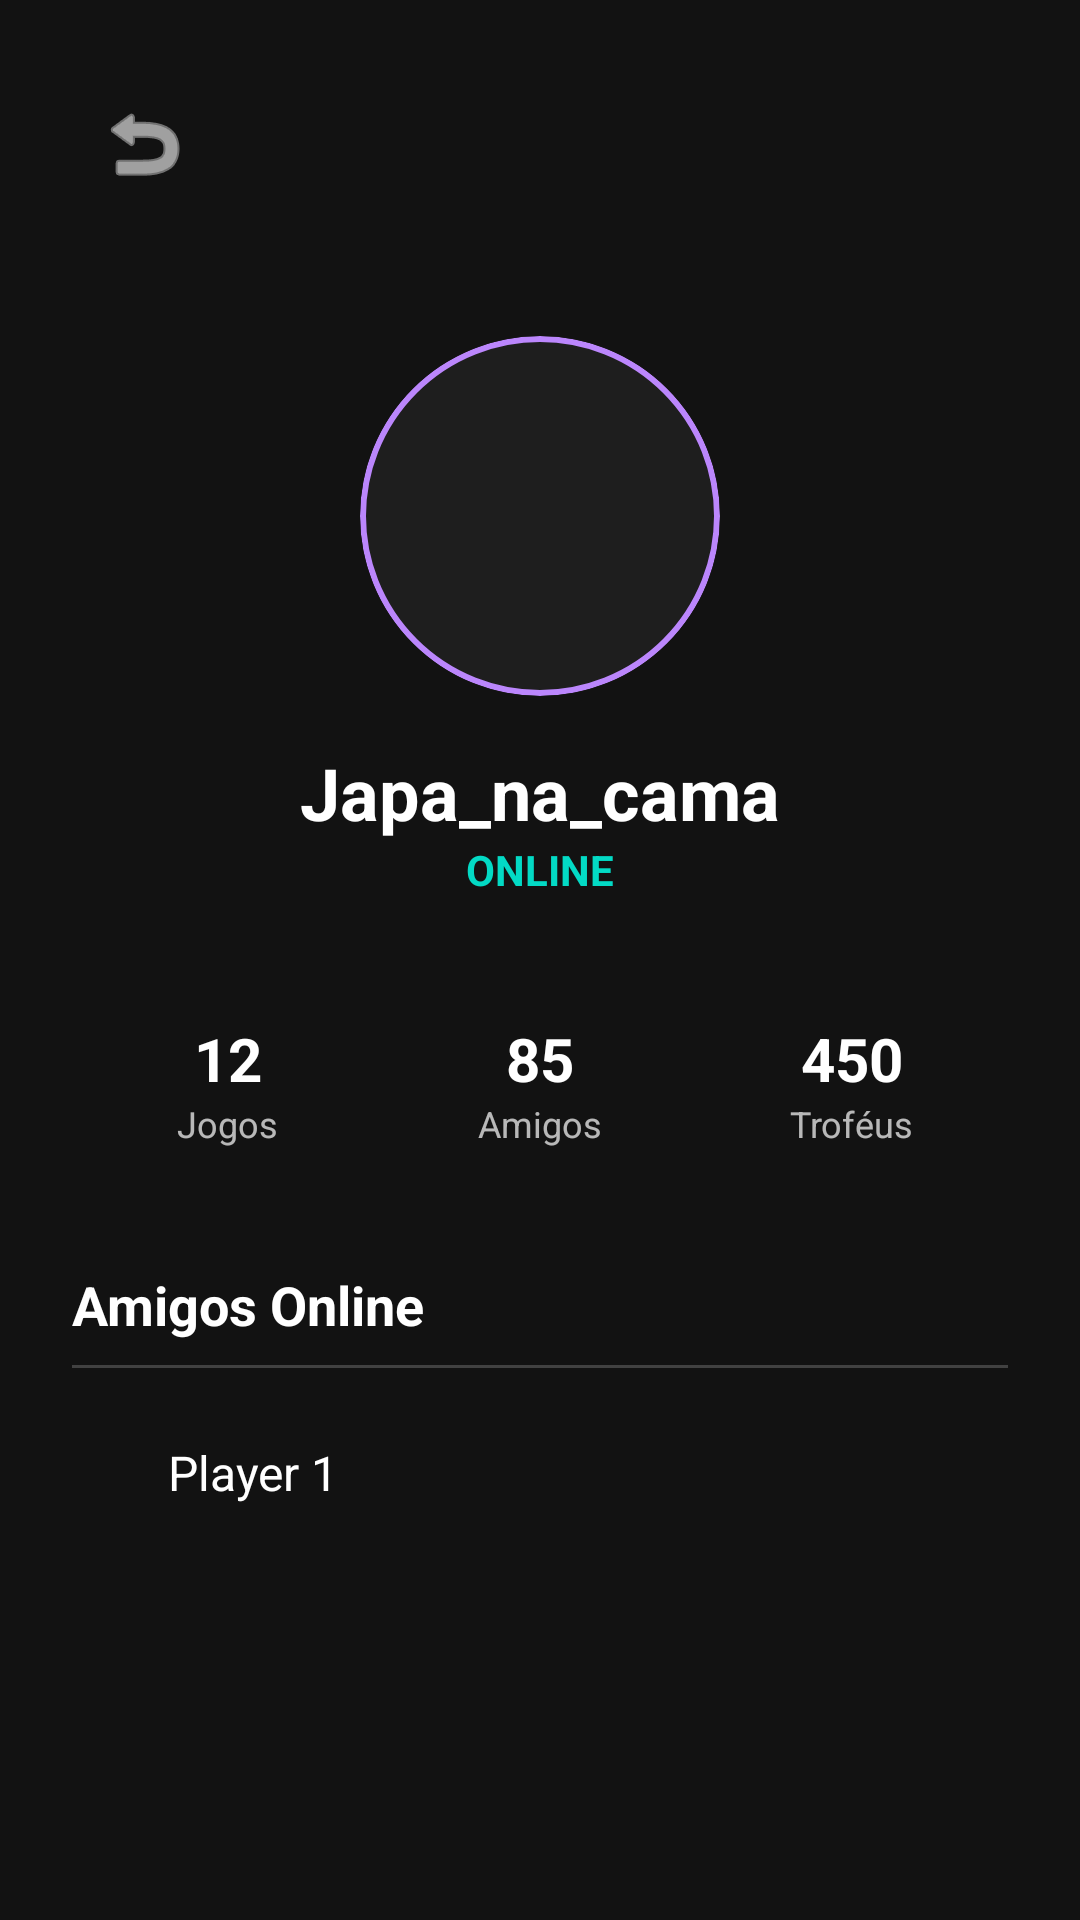

Screen size 1080x1920. Icon name, then its center in pixels as point (x, y):
Voltar: point (145, 144)
